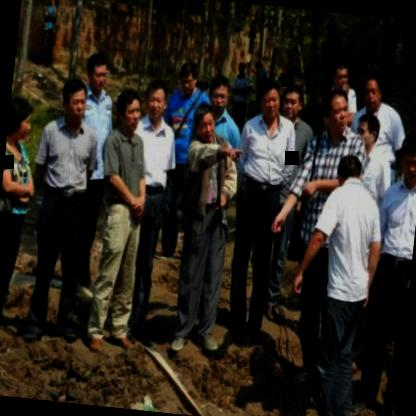head: (112, 86, 146, 140), (57, 76, 92, 128), (320, 86, 354, 136), (6, 93, 36, 147), (142, 76, 173, 127), (189, 100, 222, 146), (83, 46, 112, 96), (253, 76, 284, 121), (394, 128, 416, 190), (278, 81, 306, 127), (353, 112, 382, 156), (206, 70, 233, 116), (357, 73, 386, 114), (334, 152, 363, 192), (174, 58, 201, 96), (326, 56, 351, 94)
